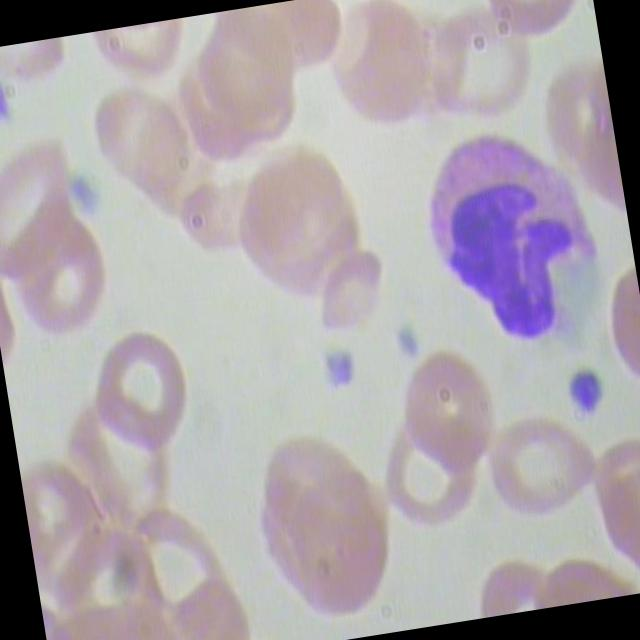Platelets: (564, 358, 623, 430), (318, 334, 372, 398), (68, 170, 115, 225), (0, 78, 22, 133)
RBC: (474, 406, 614, 534), (78, 328, 203, 463), (321, 0, 443, 137), (392, 340, 509, 480), (0, 125, 94, 293), (312, 250, 405, 336), (481, 0, 592, 51)
WBC: (406, 113, 634, 382)
